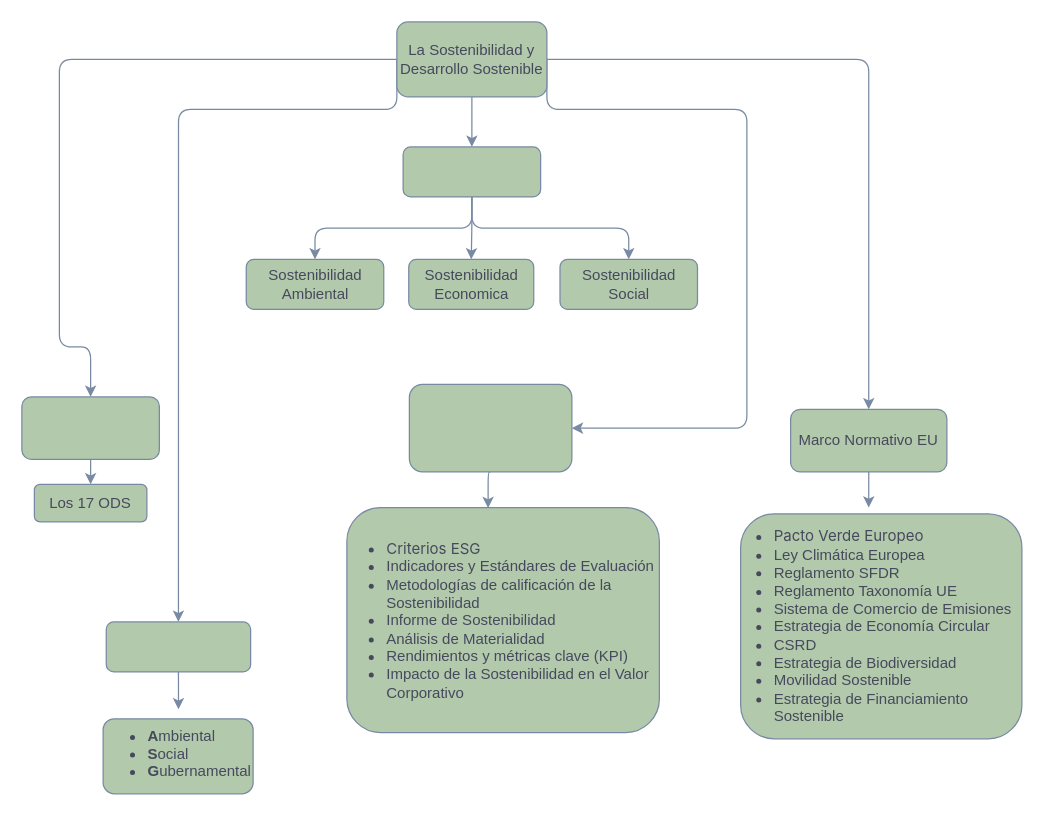
This 1044x816 diagram has some shape labels left out. The centre of each missing label's shape, as x and y in pixels:
Evaluación del desempeño en sostenibilidad de las empresas: point 490,427
La Agenda 2030: point 90,427
Siglas ASG: point 178,646
Sostenibilidad: point 471,171
